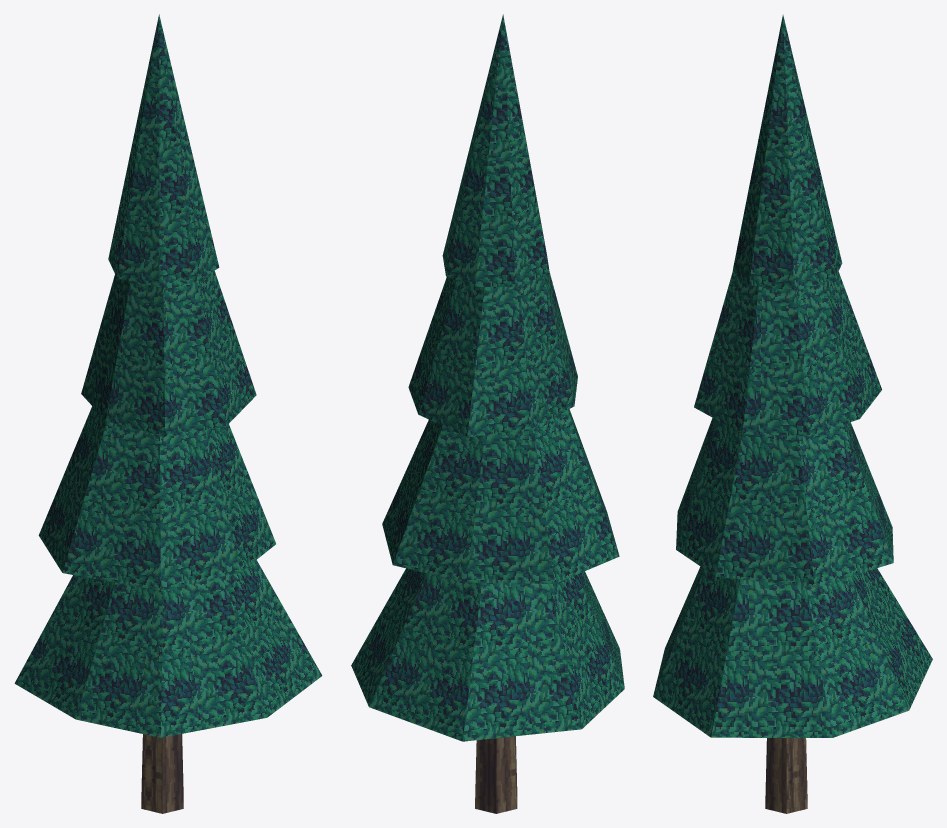
The model's file is pine_b.glb.
3 renders of one model, left to right at view 1: azimuth 30°, elevation 25°; view 2: azimuth 150°, elevation 25°; view 3: azimuth 270°, elevation 25°, orthographic.
Visible parts, largest first — view 1: pine_b; view 2: pine_b; view 3: pine_b.
Boxes of the visible parts, <box> form: pine_b: <box>14,14,322,813</box>; pine_b: <box>351,14,624,813</box>; pine_b: <box>653,14,932,813</box>.
Bounding box in the file's own units: 1.69 × 5.35 × 1.72.
2 materials, 2 textured.
